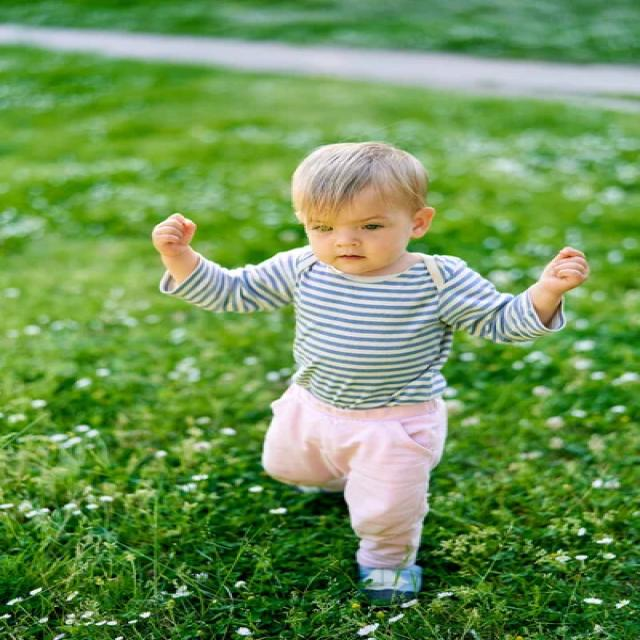Person: (155, 142, 589, 606)
